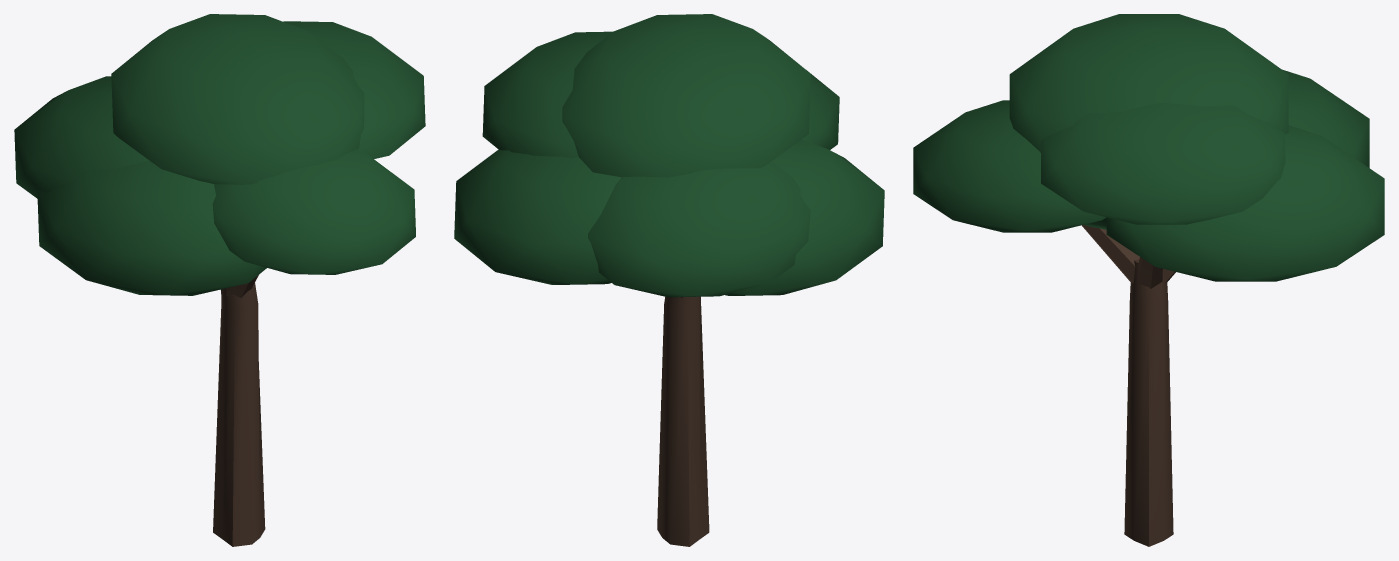
Rendered from tree_round_a_far.glb.
The picture shows the model from 3 angles, left to right: view 1: azimuth 30°, elevation 25°; view 2: azimuth 150°, elevation 25°; view 3: azimuth 270°, elevation 25°; orthographic projection.
Visible parts, largest first — view 1: body; view 2: body; view 3: body.
Part boxes in pixels (<box>): body: <box>14,14,425,546</box>; body: <box>454,14,884,546</box>; body: <box>913,14,1384,546</box>.
Bounding box in the file's own units: 3.86 × 5.16 × 4.37.
